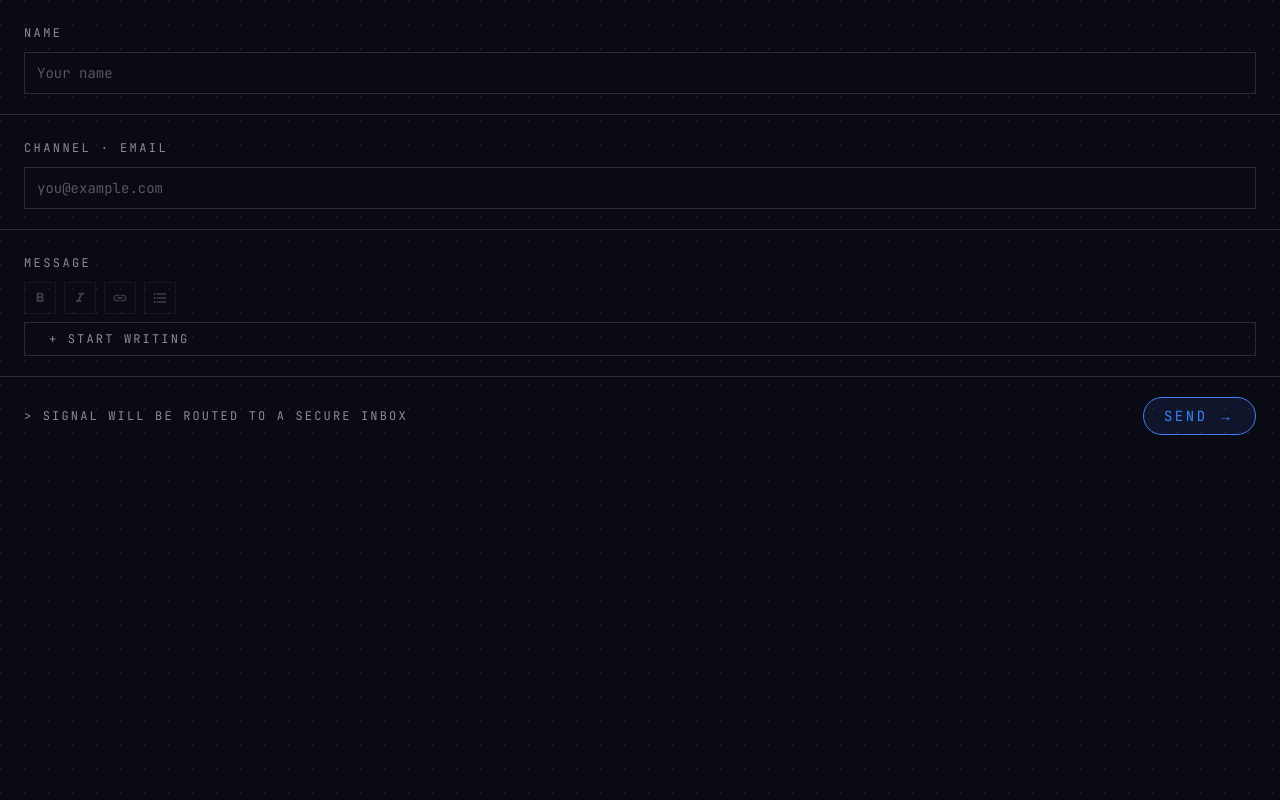
Test: ContactForm › shows success and clears fields
The width and height of the screenshot is (1280, 800).
In the field labelled "Name": (640, 73) [24,52,1256,94], type "A"
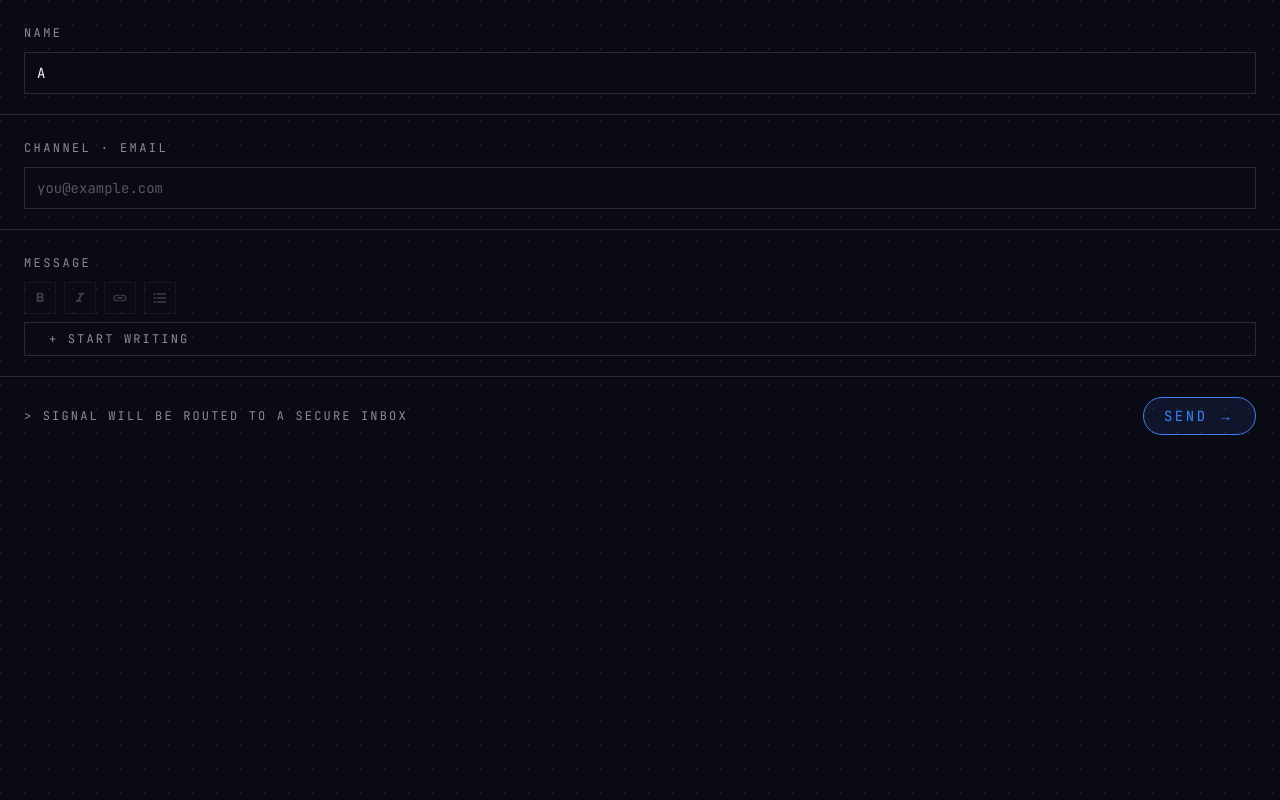
In the field labelled "Channel · Email": (640, 188) [24,167,1256,209], type "a@b.co"
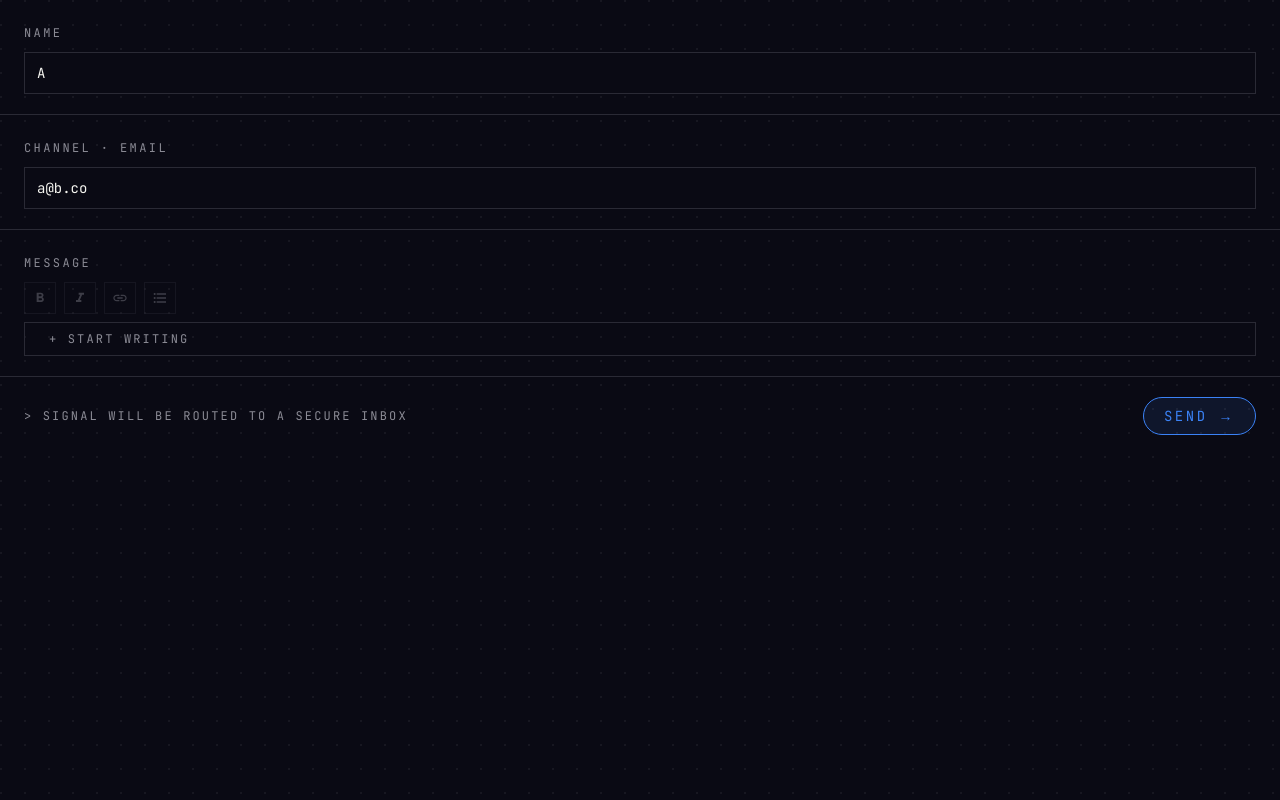
Click the button "+ start writing": (119, 339) [37,331,1243,347]
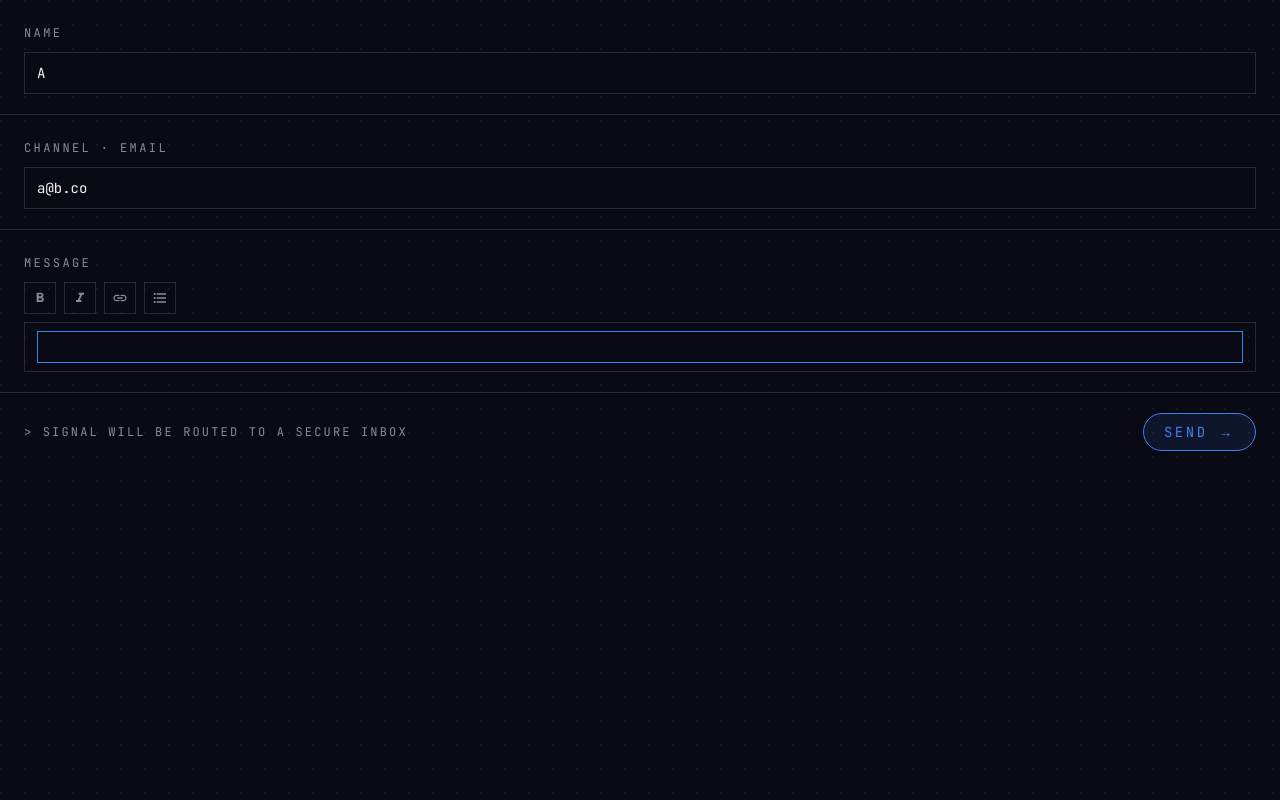
In the text box named "block editor": (640, 347) [37,331,1243,363], type "hi"
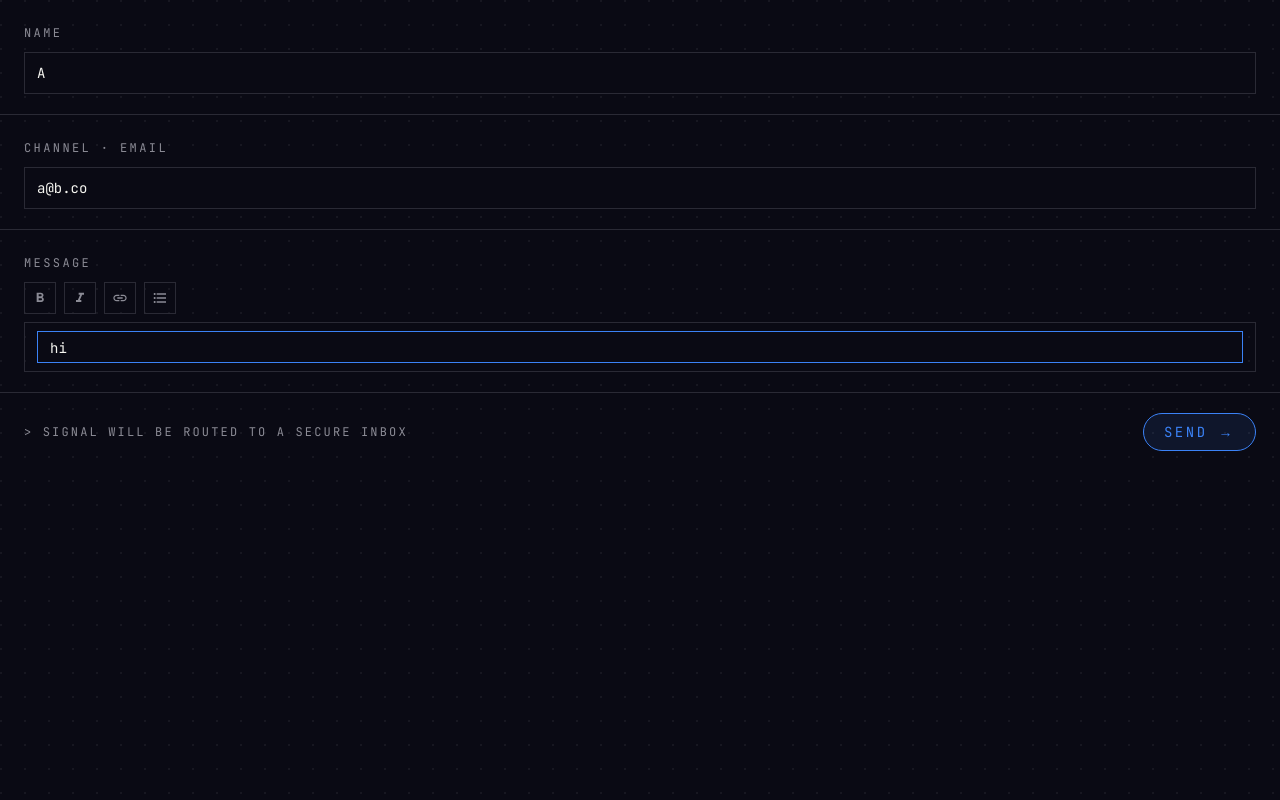
Submit the form "send", box [0,0,1279,471]
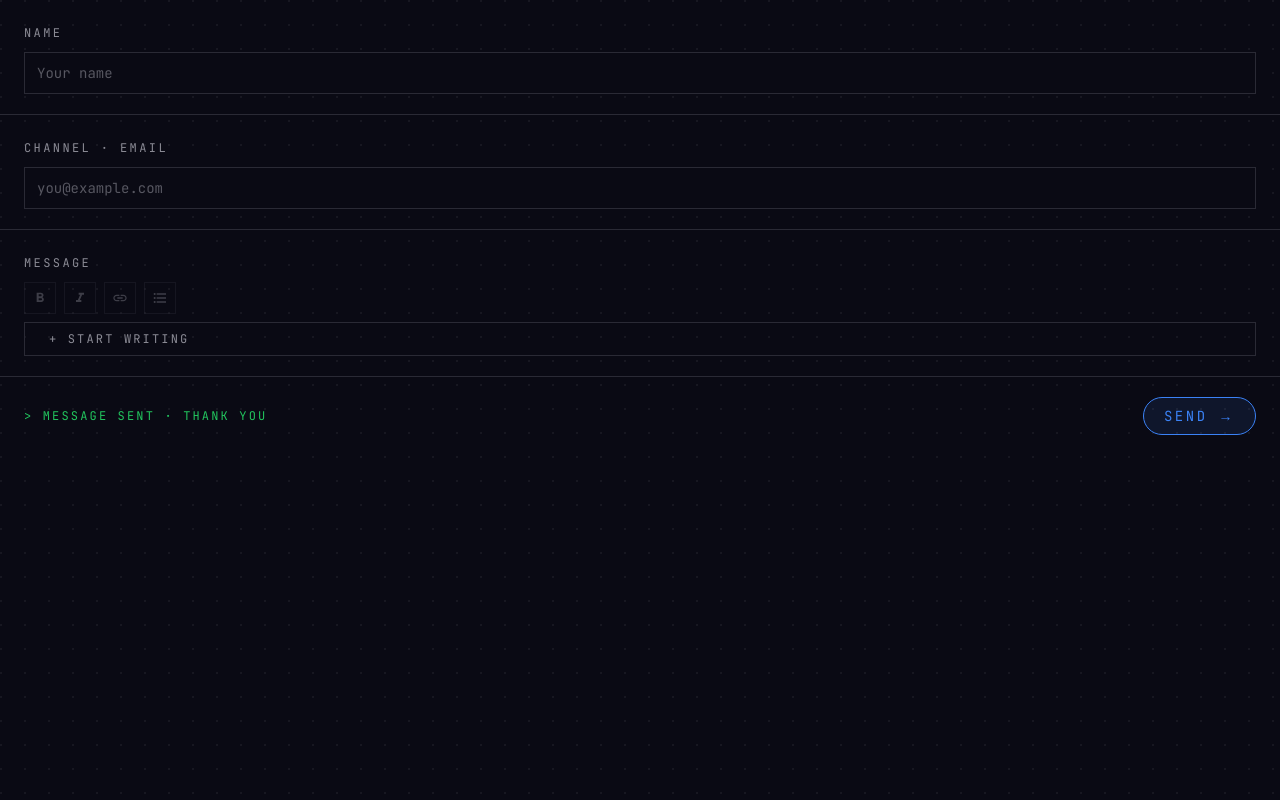
Expected: the text "> message sent · thank you" is shown, [24,408,267,424]
Expected: the field labelled "Name" is empty, [24,52,1256,94]
